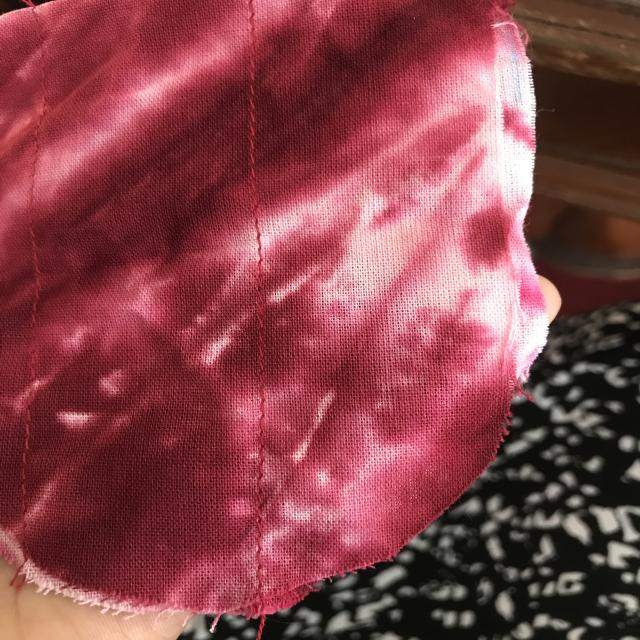good: (221, 116, 270, 189)
